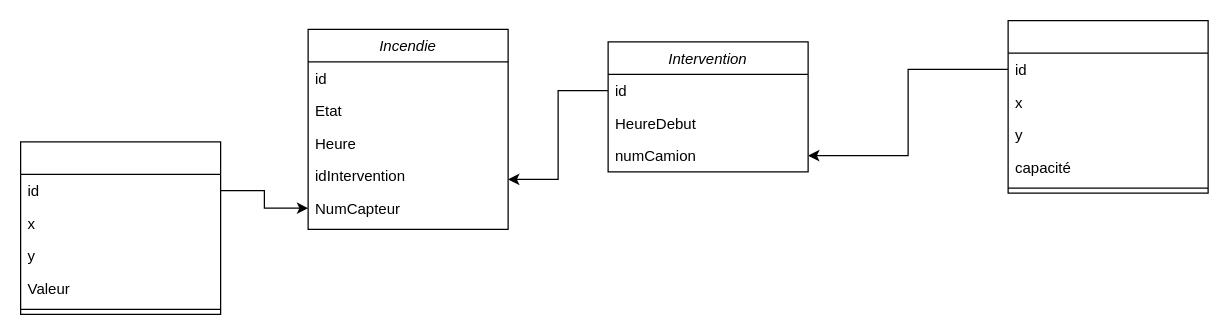
Image size: 1229x335. Some labels were removed from this diagram. The shapes that lost their labels are listed below. From the top down, each one's box as (x1, y1, x2, y2) in pixels, then its label:
(1007, 19, 1208, 193): Camion
(19, 141, 221, 314): Capteur
